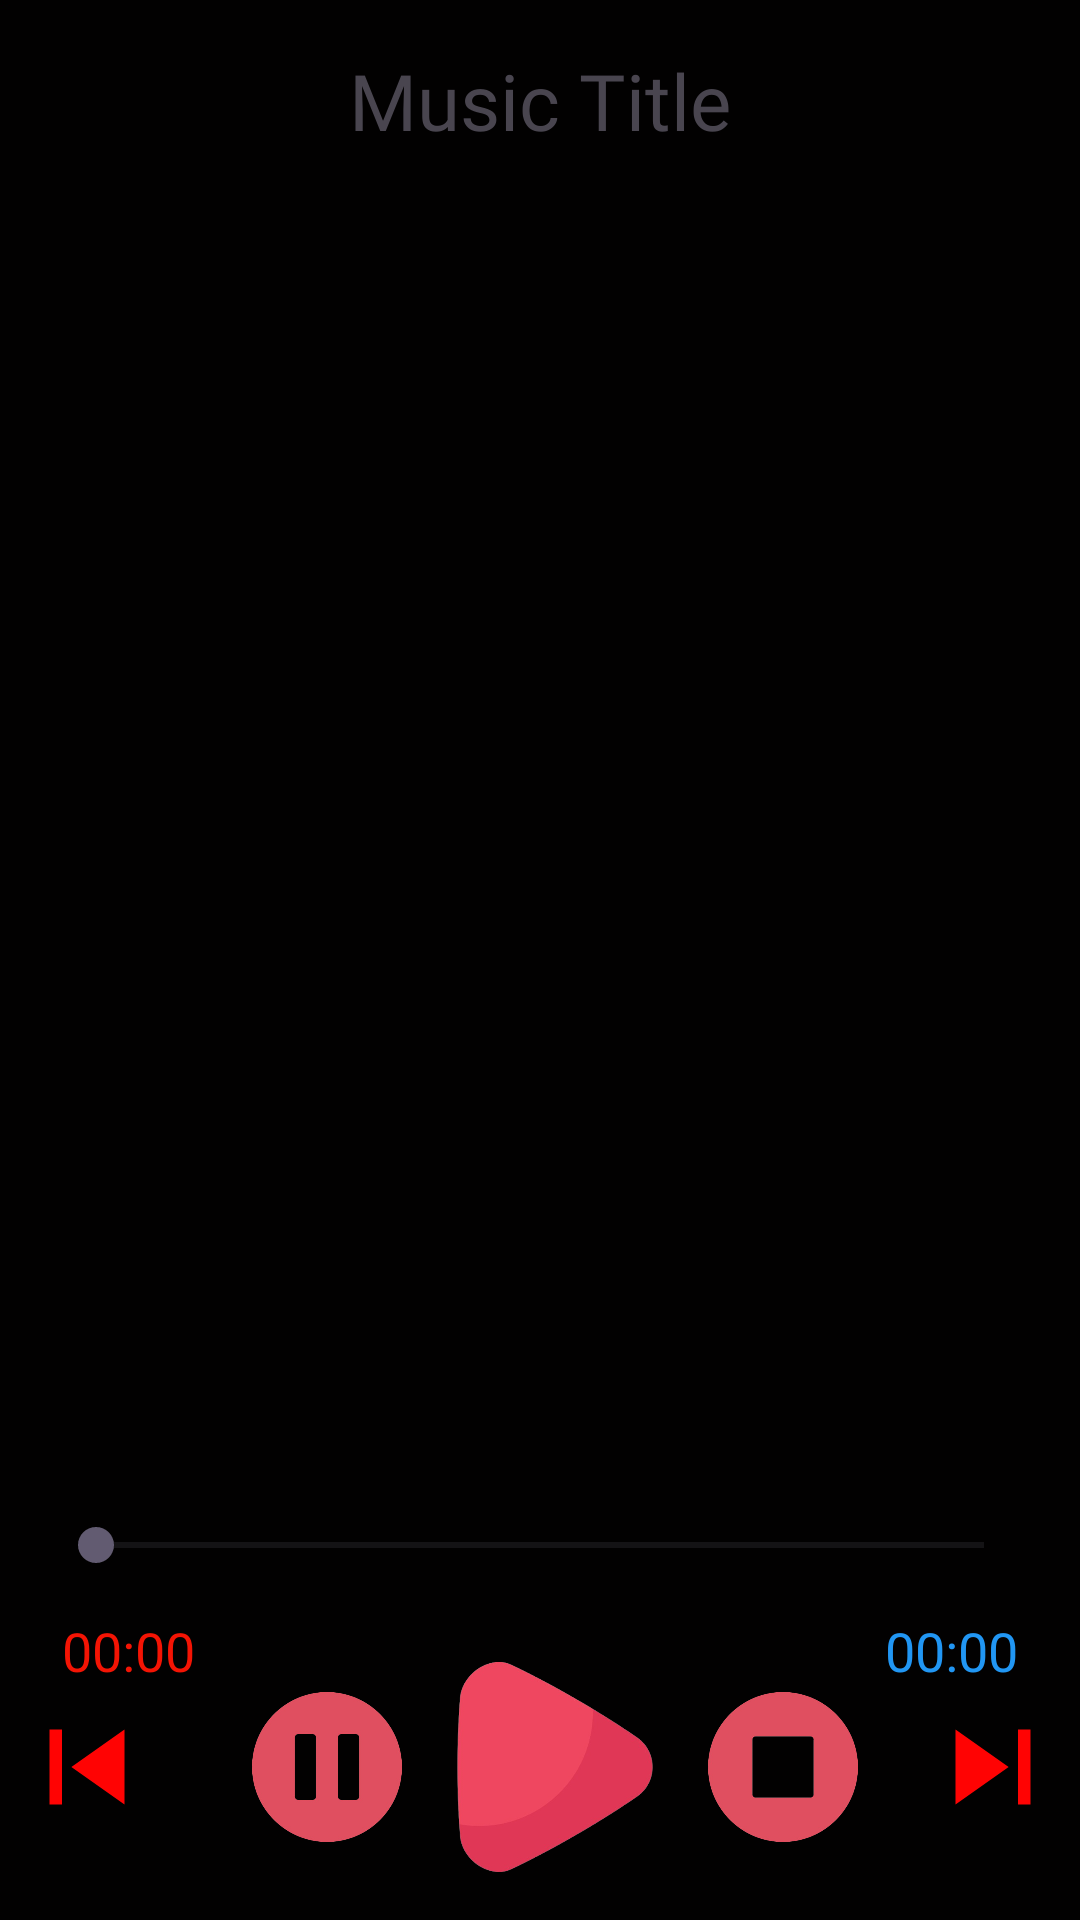

Screen size 1080px×1920px. Icon name, then its center in pixels as (x,y):
pause: (327,1767)
play: (555,1767)
stop: (783,1767)
